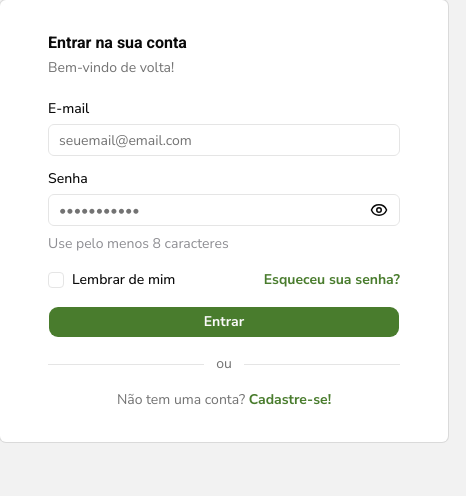
Scenario: LoginForm › shows API error feedback and leaves the user on the form
Type "teste@email.com" into the field labelled "E-mail" at x=224, y=140, box [48, 124, 400, 156]
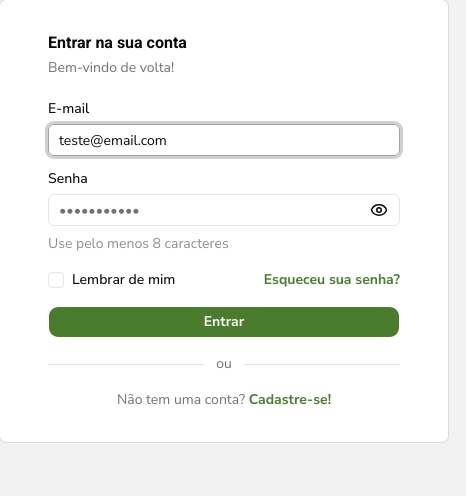
Type "12345678" into the password field labelled "Senha" at x=224, y=210, box [48, 194, 400, 226]
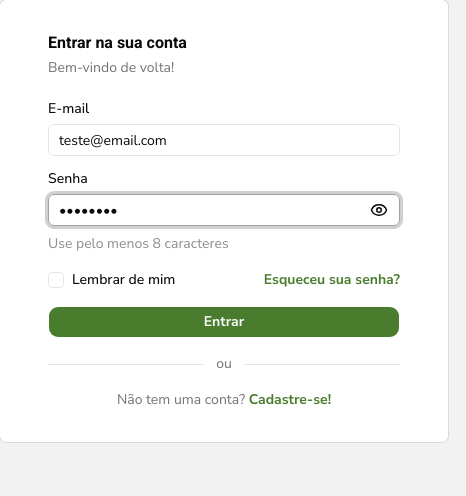
Click the button "Entrar" at x=224, y=322, box [48, 306, 400, 338]
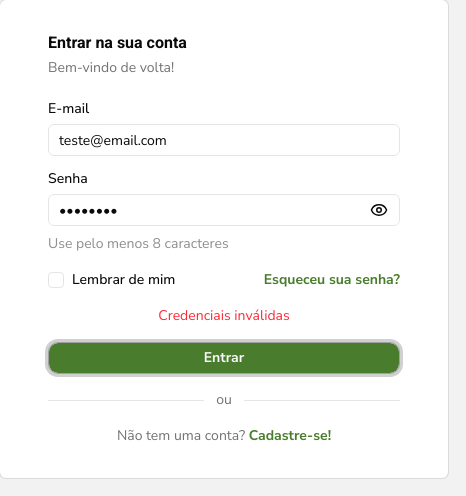
Expected: the text "Credenciais inválidas" is shown, [158, 306, 290, 325]
